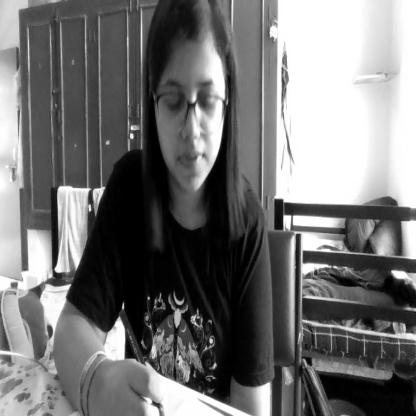Normal: (147, 0, 231, 195)
